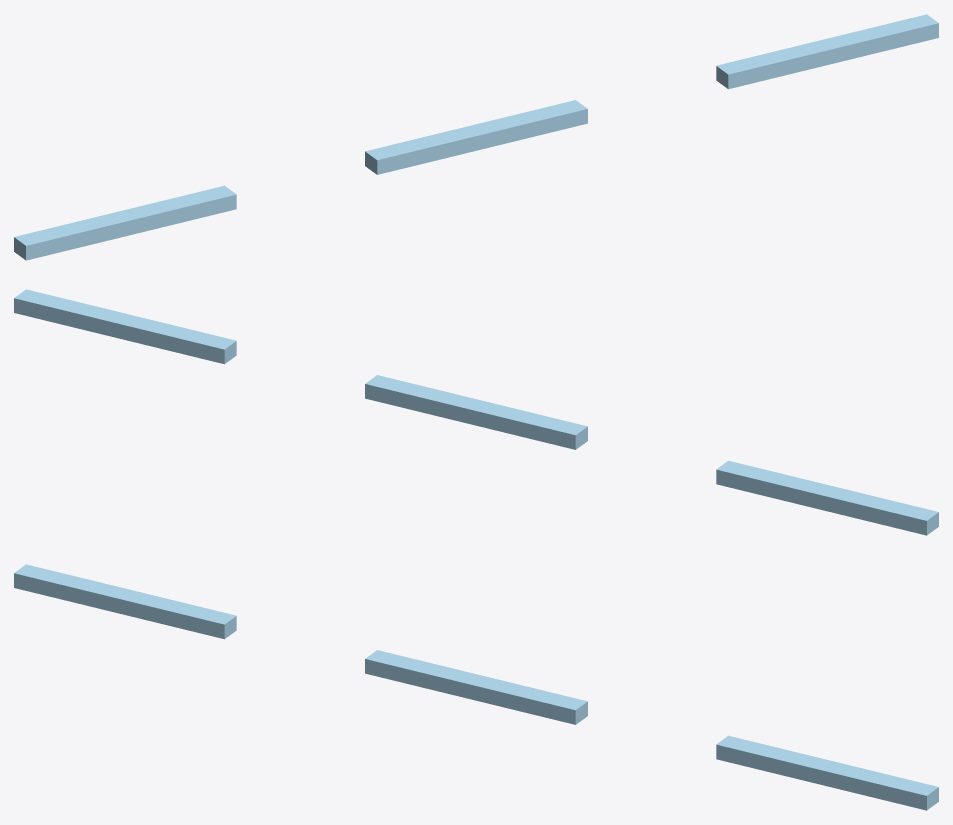
File: SM_Int_CommandBridge_Lights.fbx
3 views of the same model, one above another, from view 1: azimuth 30°, elevation 25°; view 2: azimuth 150°, elevation 25°; view 3: azimuth 330°, elevation 25° (orthographic).
Visible parts, largest first — view 1: SM_Int_CommandBridge_Lights; view 2: SM_Int_CommandBridge_Lights; view 3: SM_Int_CommandBridge_Lights.
Boxes of the visible parts, x1,y1,x2,y2 form: SM_Int_CommandBridge_Lights: [14, 14, 938, 260]; SM_Int_CommandBridge_Lights: [14, 289, 938, 535]; SM_Int_CommandBridge_Lights: [14, 564, 938, 810].
Size of the model in its own units: 260 by 6 by 4.
